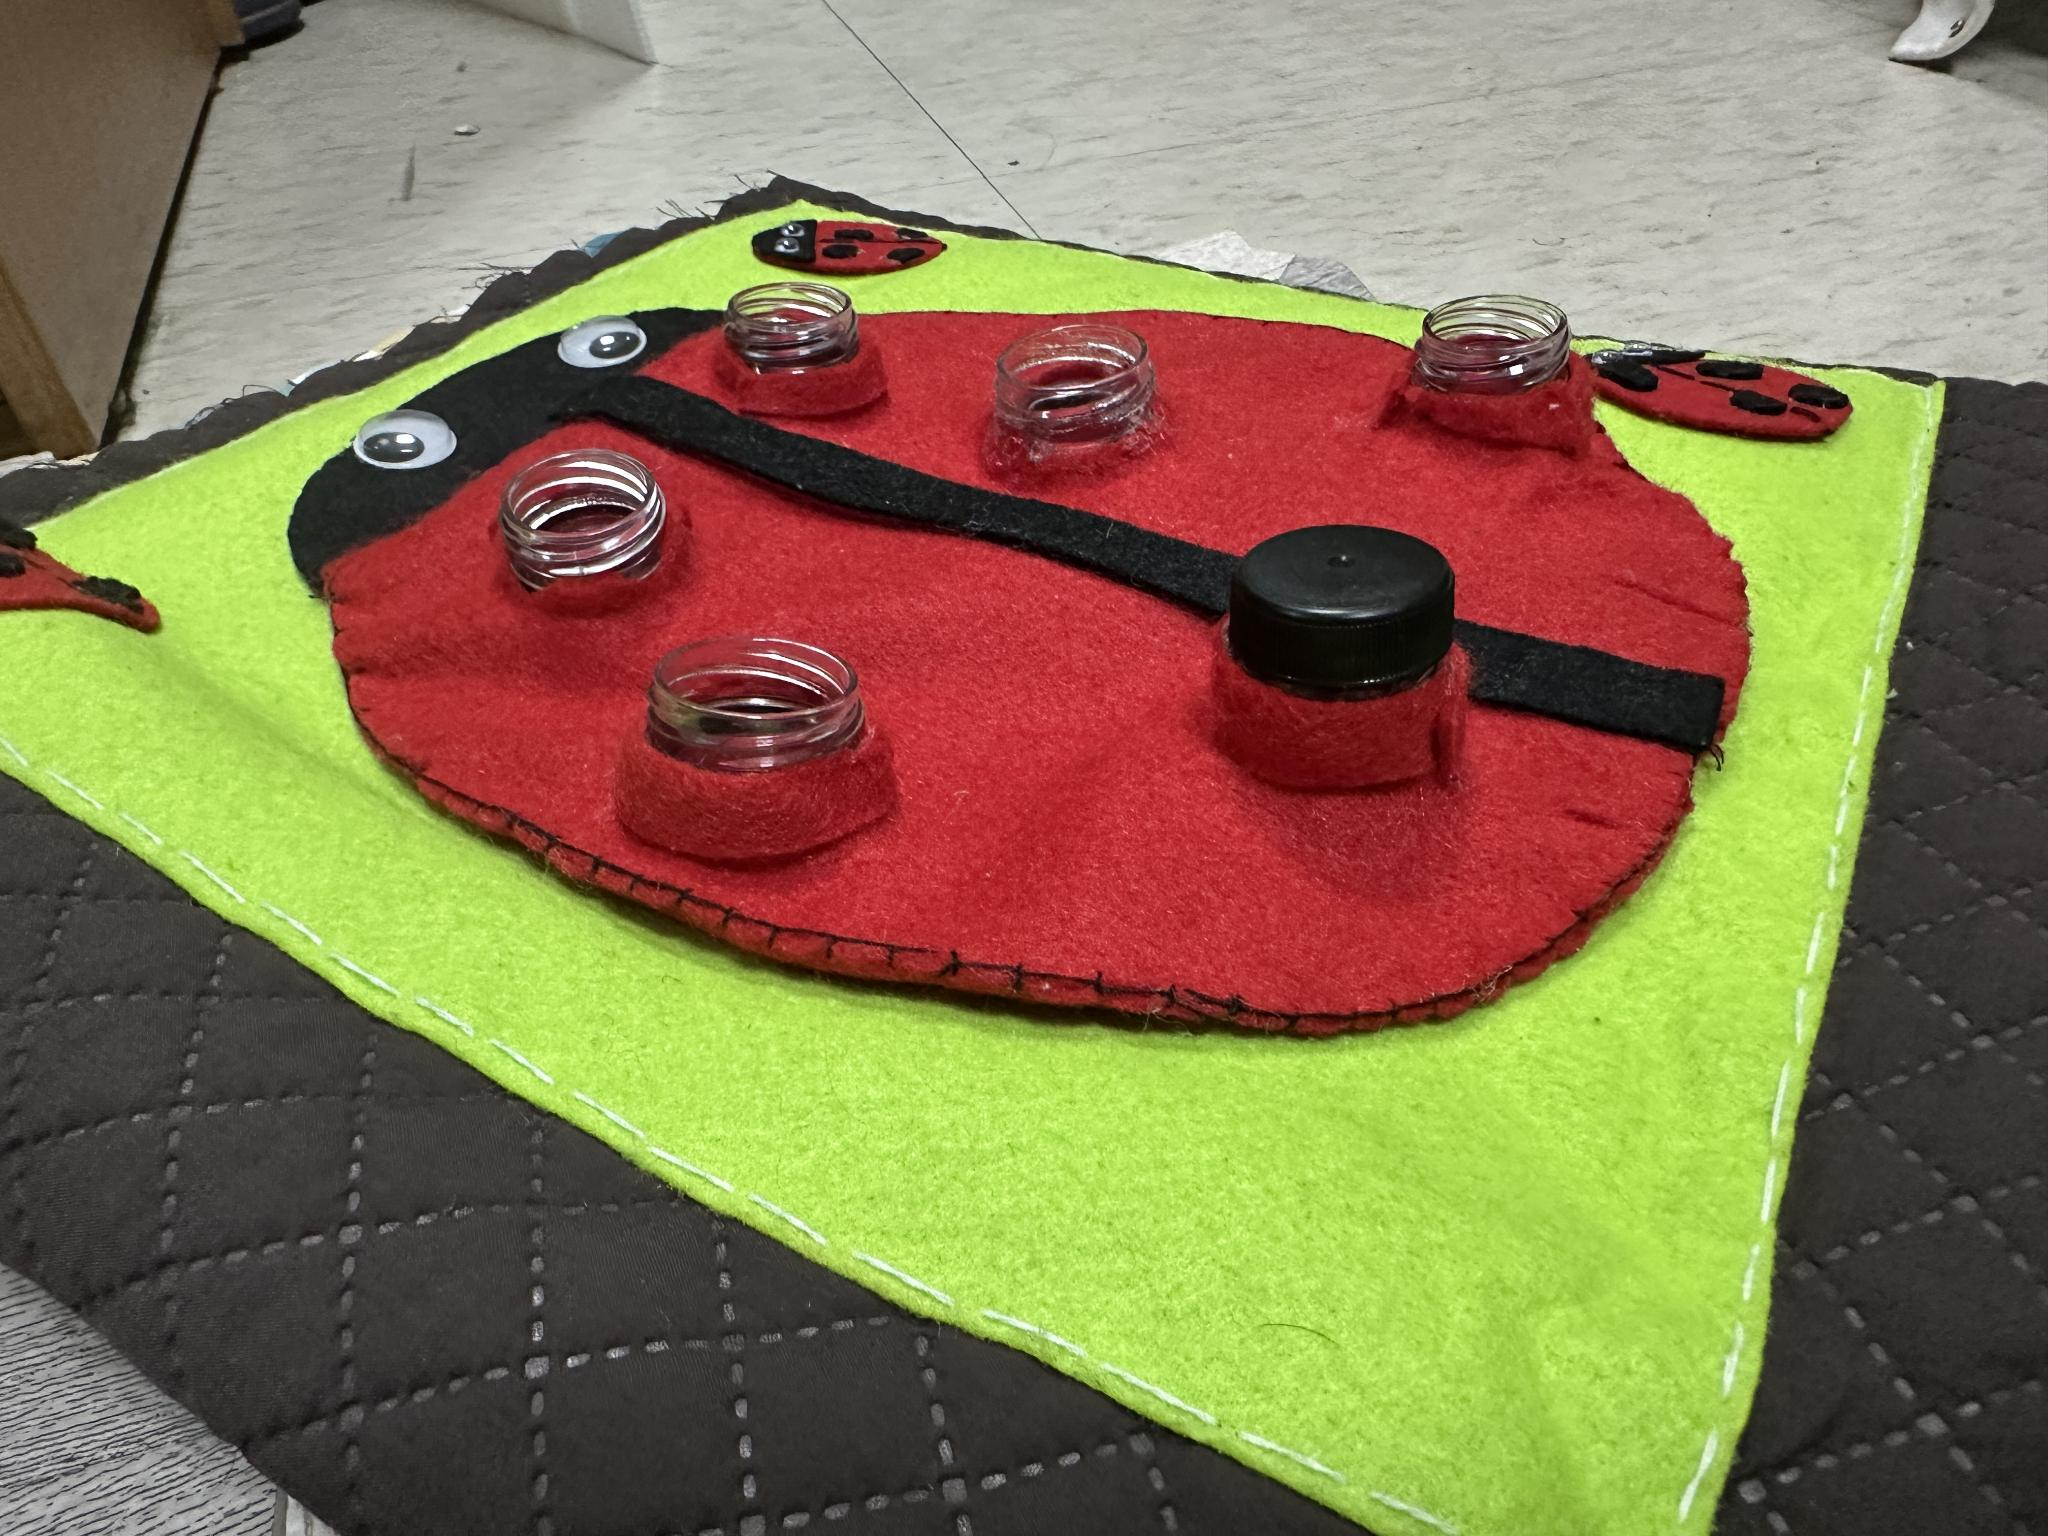cap_ok: (1166, 482, 1535, 816)
